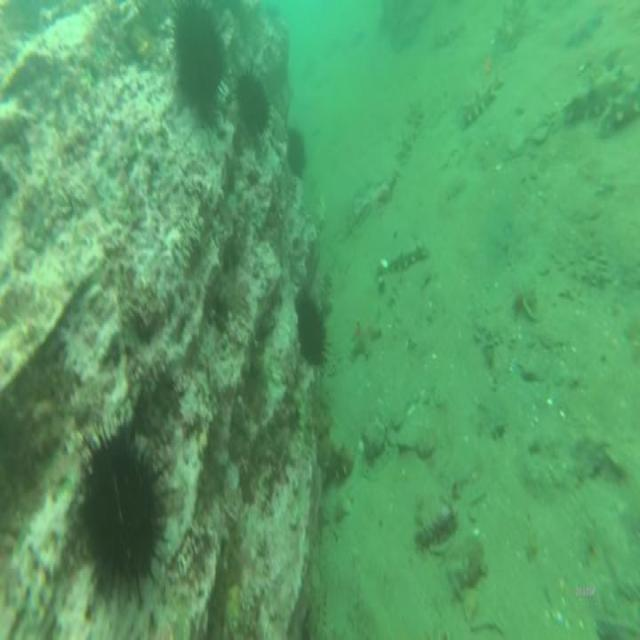echinus: (78, 425, 162, 604), (168, 2, 231, 123), (296, 283, 332, 376), (231, 61, 274, 138), (284, 115, 310, 183)
holothurian: (553, 59, 632, 130), (308, 399, 356, 484), (457, 73, 505, 134), (598, 79, 640, 139), (378, 234, 431, 278), (392, 99, 426, 166)
starfish: (566, 10, 604, 52)
